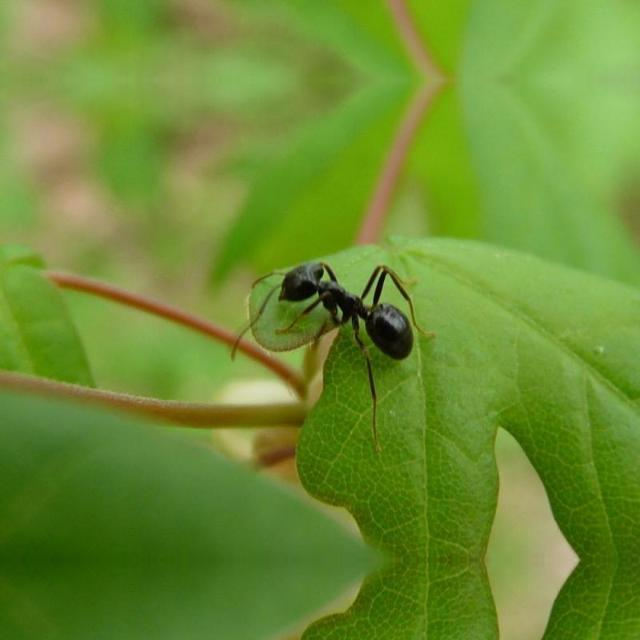Lasius: (250, 238, 438, 389)
